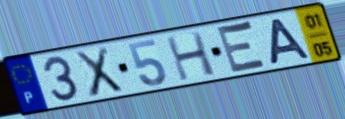3: (41, 54, 80, 104)
5: (125, 37, 169, 88)
A: (268, 16, 313, 66)
E: (215, 19, 271, 76)
H: (163, 29, 218, 83)
X: (72, 45, 126, 100)
